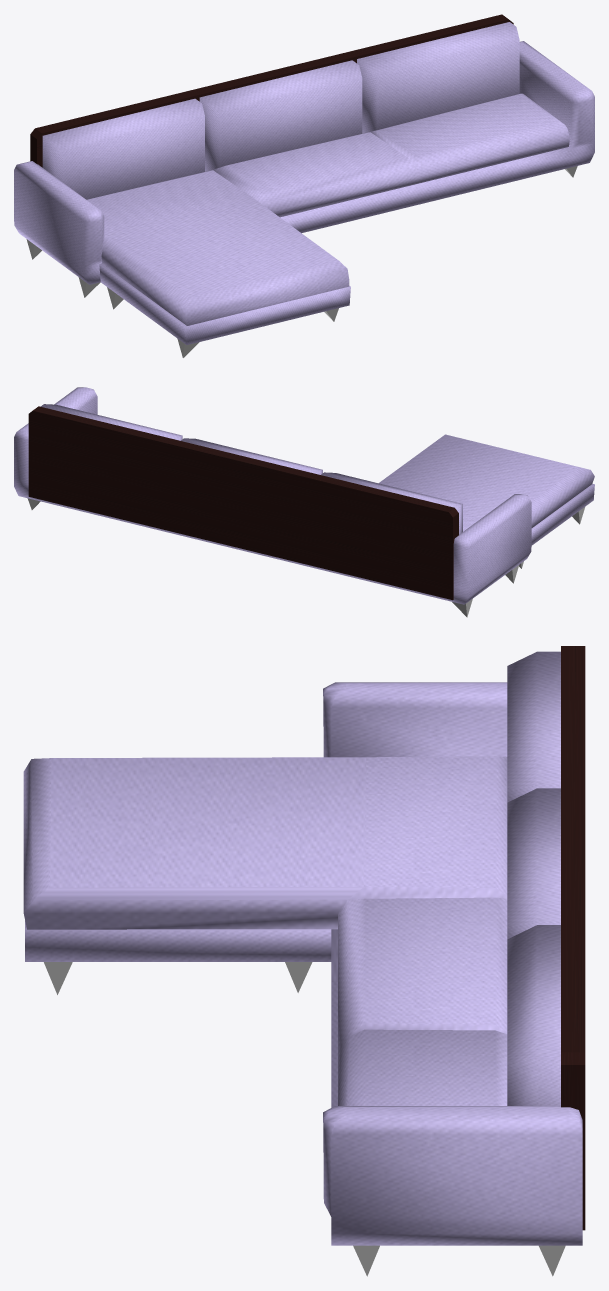
The model's file is Chaise_Sofa_B_01.FBX.
The picture shows the model from 3 angles, top to bottom: view 1: azimuth 30°, elevation 25°; view 2: azimuth 150°, elevation 25°; view 3: azimuth 270°, elevation 25°; orthographic projection. The views are drawn at different scales.
Parts seen in each view (by area): view 1: Chaise_Sofa_B; view 2: Chaise_Sofa_B; view 3: Chaise_Sofa_B.
Boxes of the visible parts, x1,y1,x2,y2 form: Chaise_Sofa_B: (14, 14, 594, 357); Chaise_Sofa_B: (14, 387, 594, 617); Chaise_Sofa_B: (23, 646, 585, 1276).
Bounding box in the file's own units: 685 × 157 × 366.
